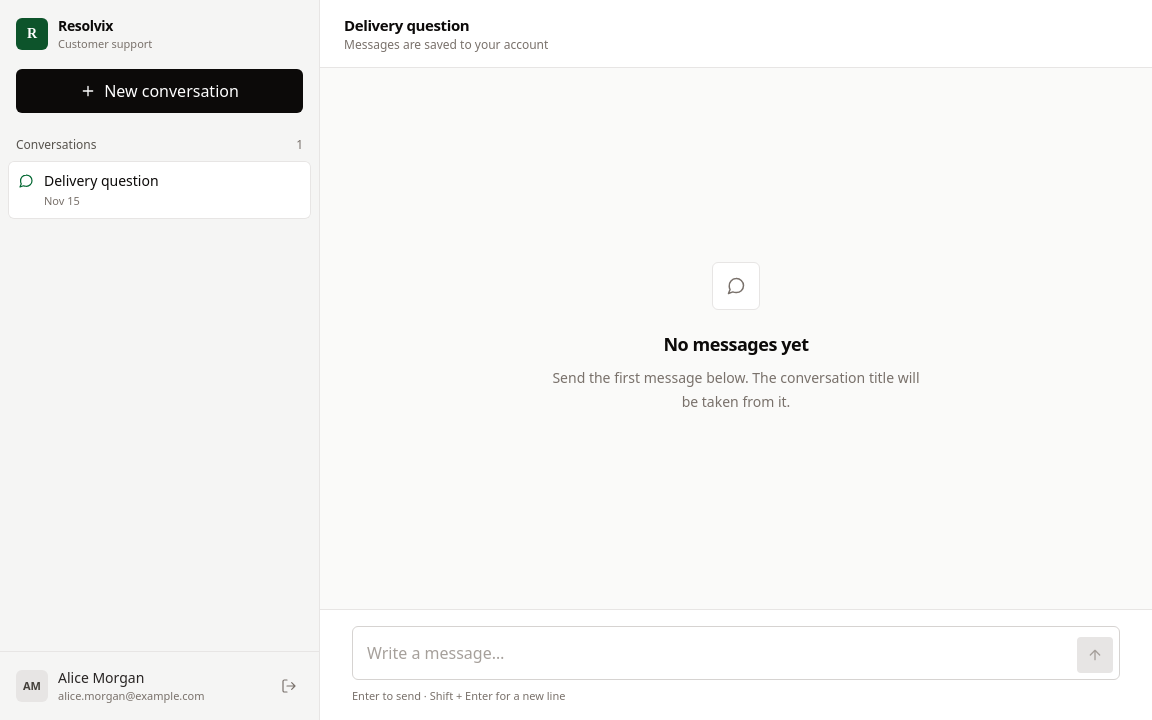
Test: Chat › shows an error and keeps the draft when sending fails
Type "Please keep this draft" into the text box labelled "message".
click(714, 652); type("Please keep this draft")  # box [359,632,1069,672]
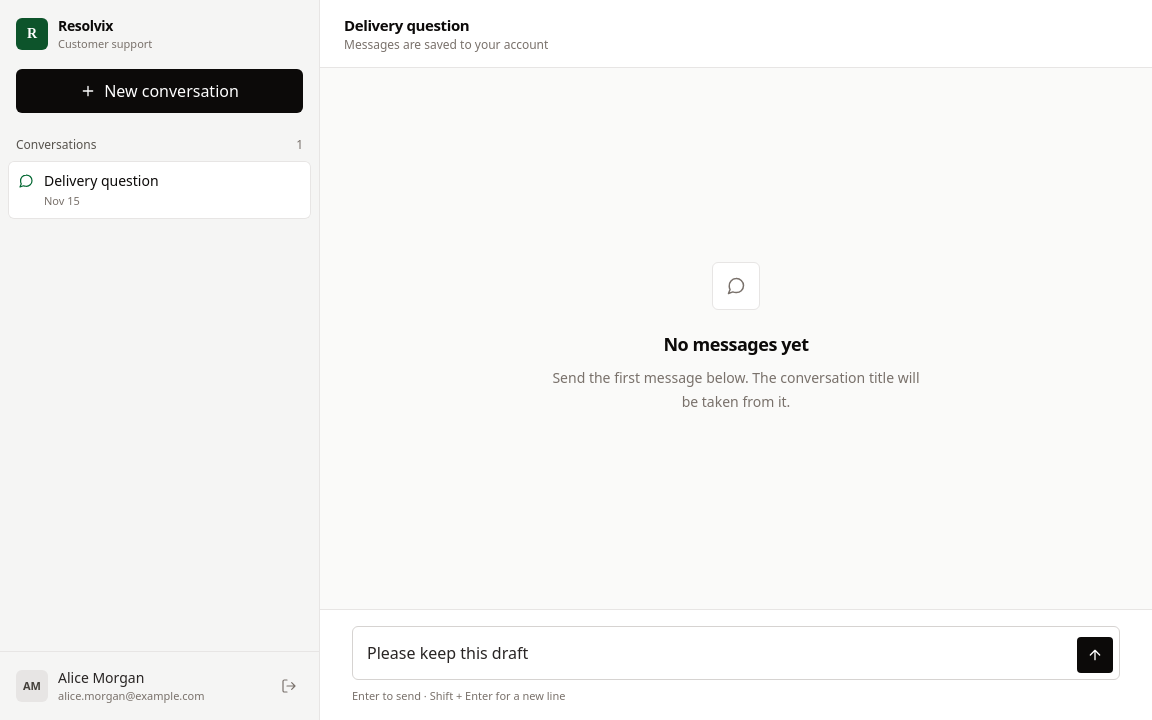
Click the button named "Send message".
click(1095, 654)  # box [1077,636,1113,672]
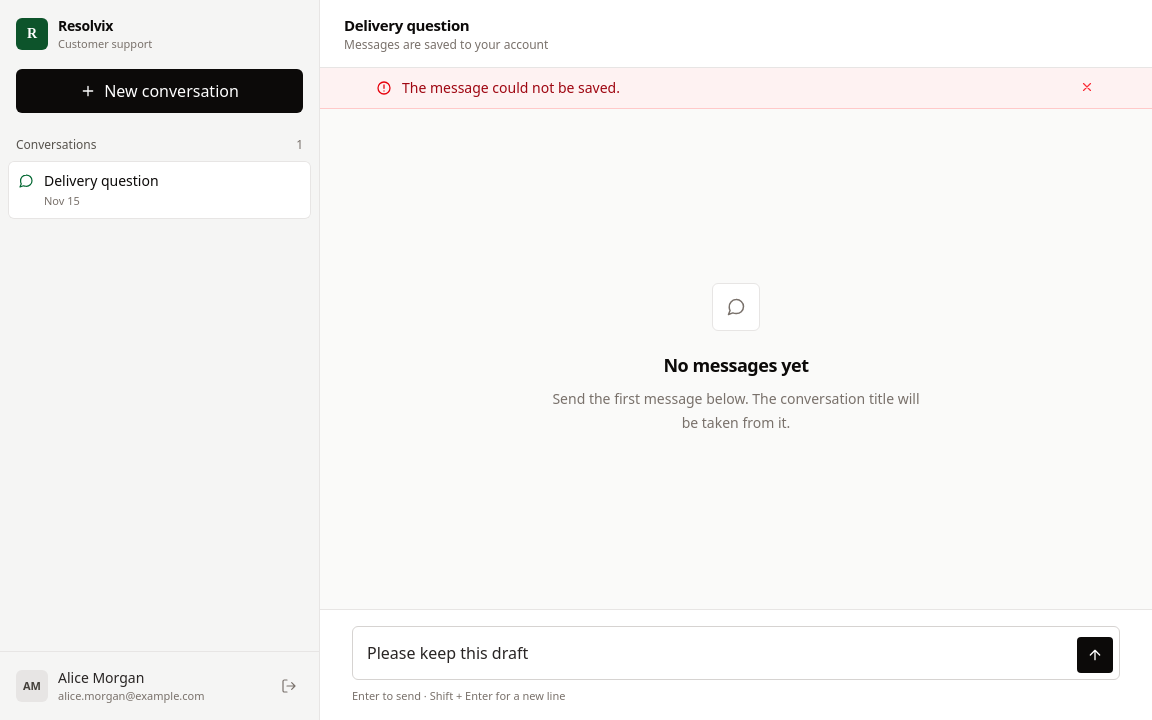
Now the message reads "The message could not be saved.", box [402,78,620,96]
